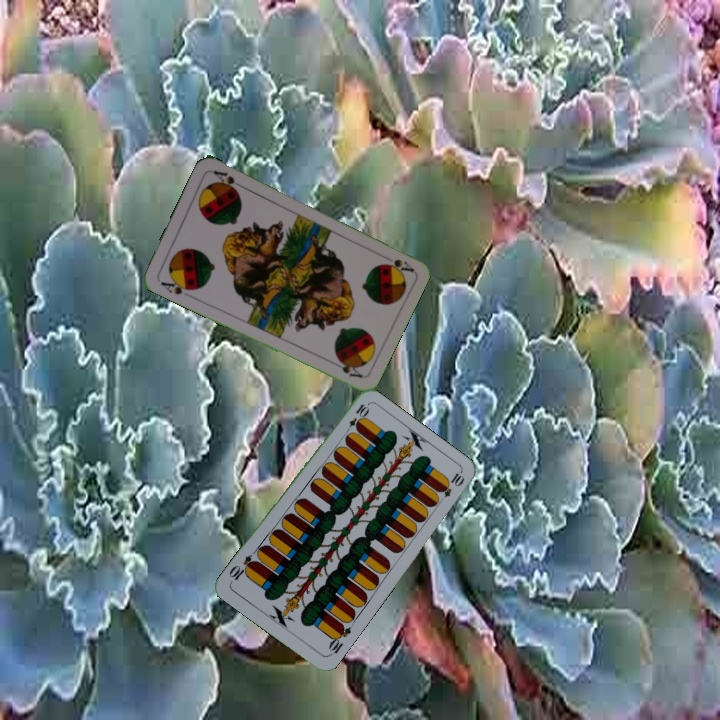E10: (324, 620, 354, 658), (341, 400, 371, 437)
SA: (377, 251, 416, 275), (157, 274, 196, 297)
